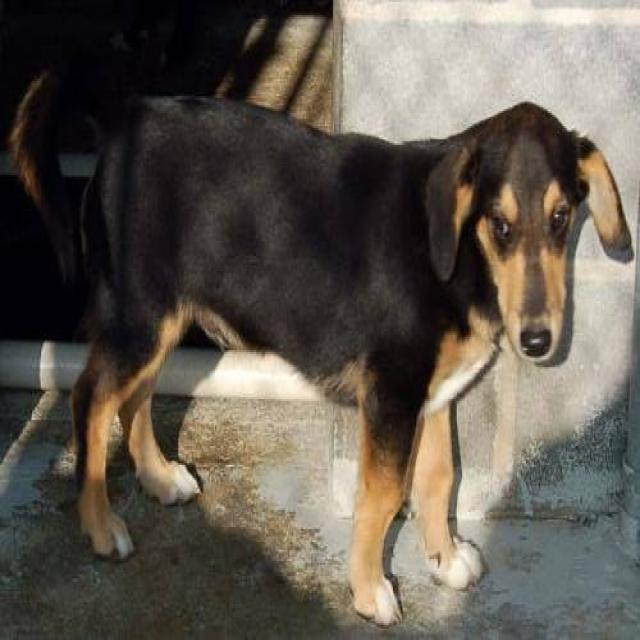puppy-dog: (12, 66, 635, 630)
